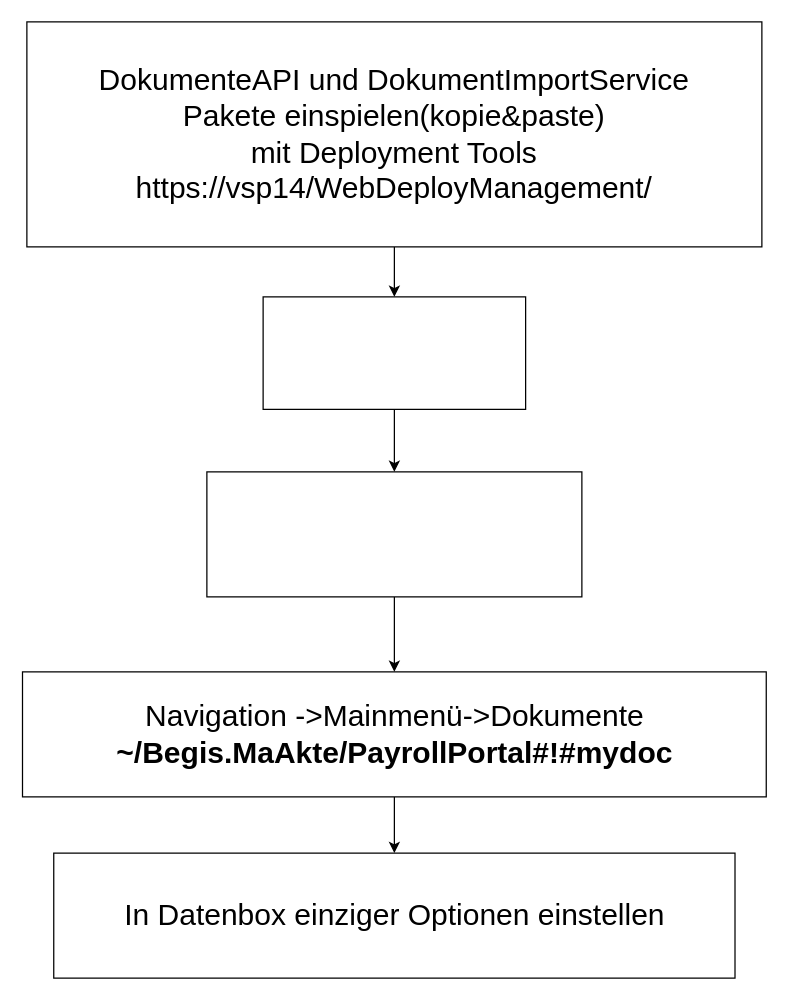
This 788x1000 diagram has some shape labels left out. The box of each missing label's shape, as (x1, y1, x2, y2) in pixels:
Dokument Management Datenbox einstellen ? hier weiß ich nicht genau: (206, 471, 582, 597)
Module-> MaAkte aktivieren: (262, 296, 526, 409)
